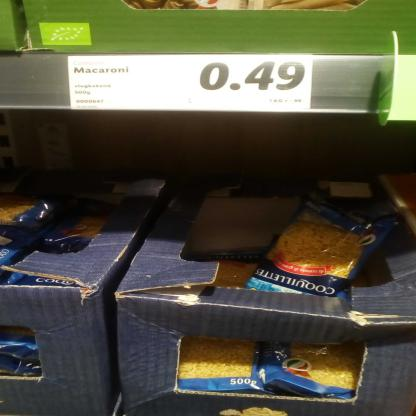prtg: (69, 55, 315, 110)
